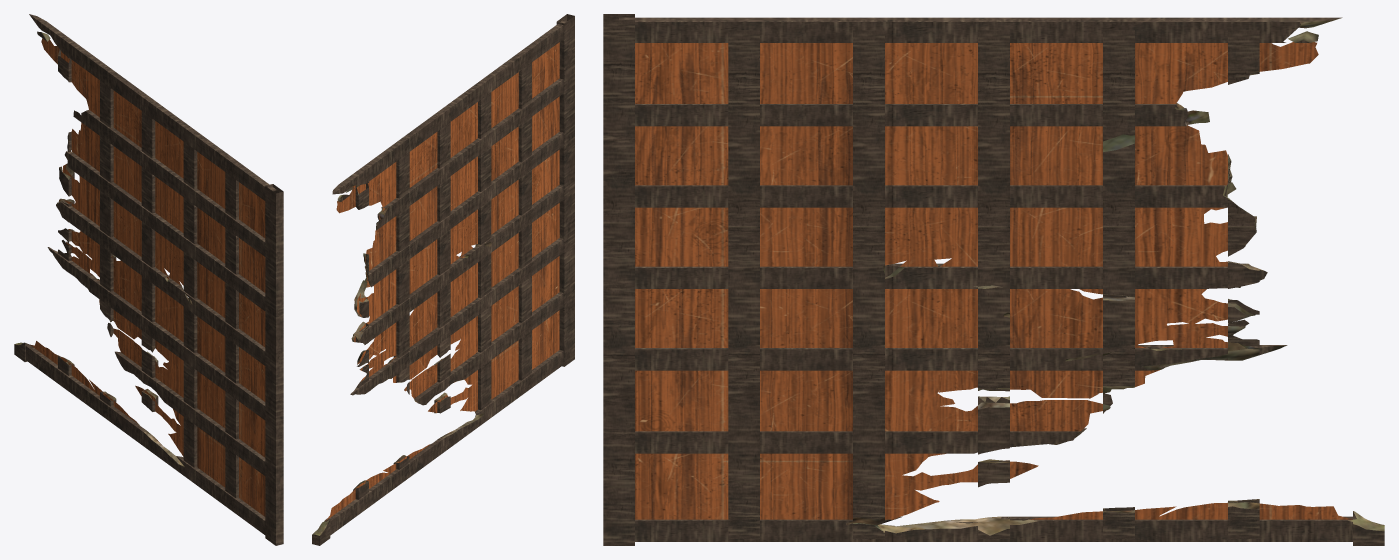
File: SM_Roof_02.fbx
3 renders of one model, left to right at view 1: azimuth 30°, elevation 25°; view 2: azimuth 150°, elevation 25°; view 3: azimuth 270°, elevation 25°, orthographic. The views are drawn at different scales.
Parts seen in each view (by area): view 1: SM_Roof_02_LOD0; view 2: SM_Roof_02_LOD0; view 3: SM_Roof_02_LOD0.
Part boxes in pixels (x1,y1,x2,y2): SM_Roof_02_LOD0: (14, 14, 283, 545); SM_Roof_02_LOD0: (312, 14, 574, 545); SM_Roof_02_LOD0: (603, 14, 1384, 545).
Bounding box in the file's own units: 4.66 × 267 × 198.
